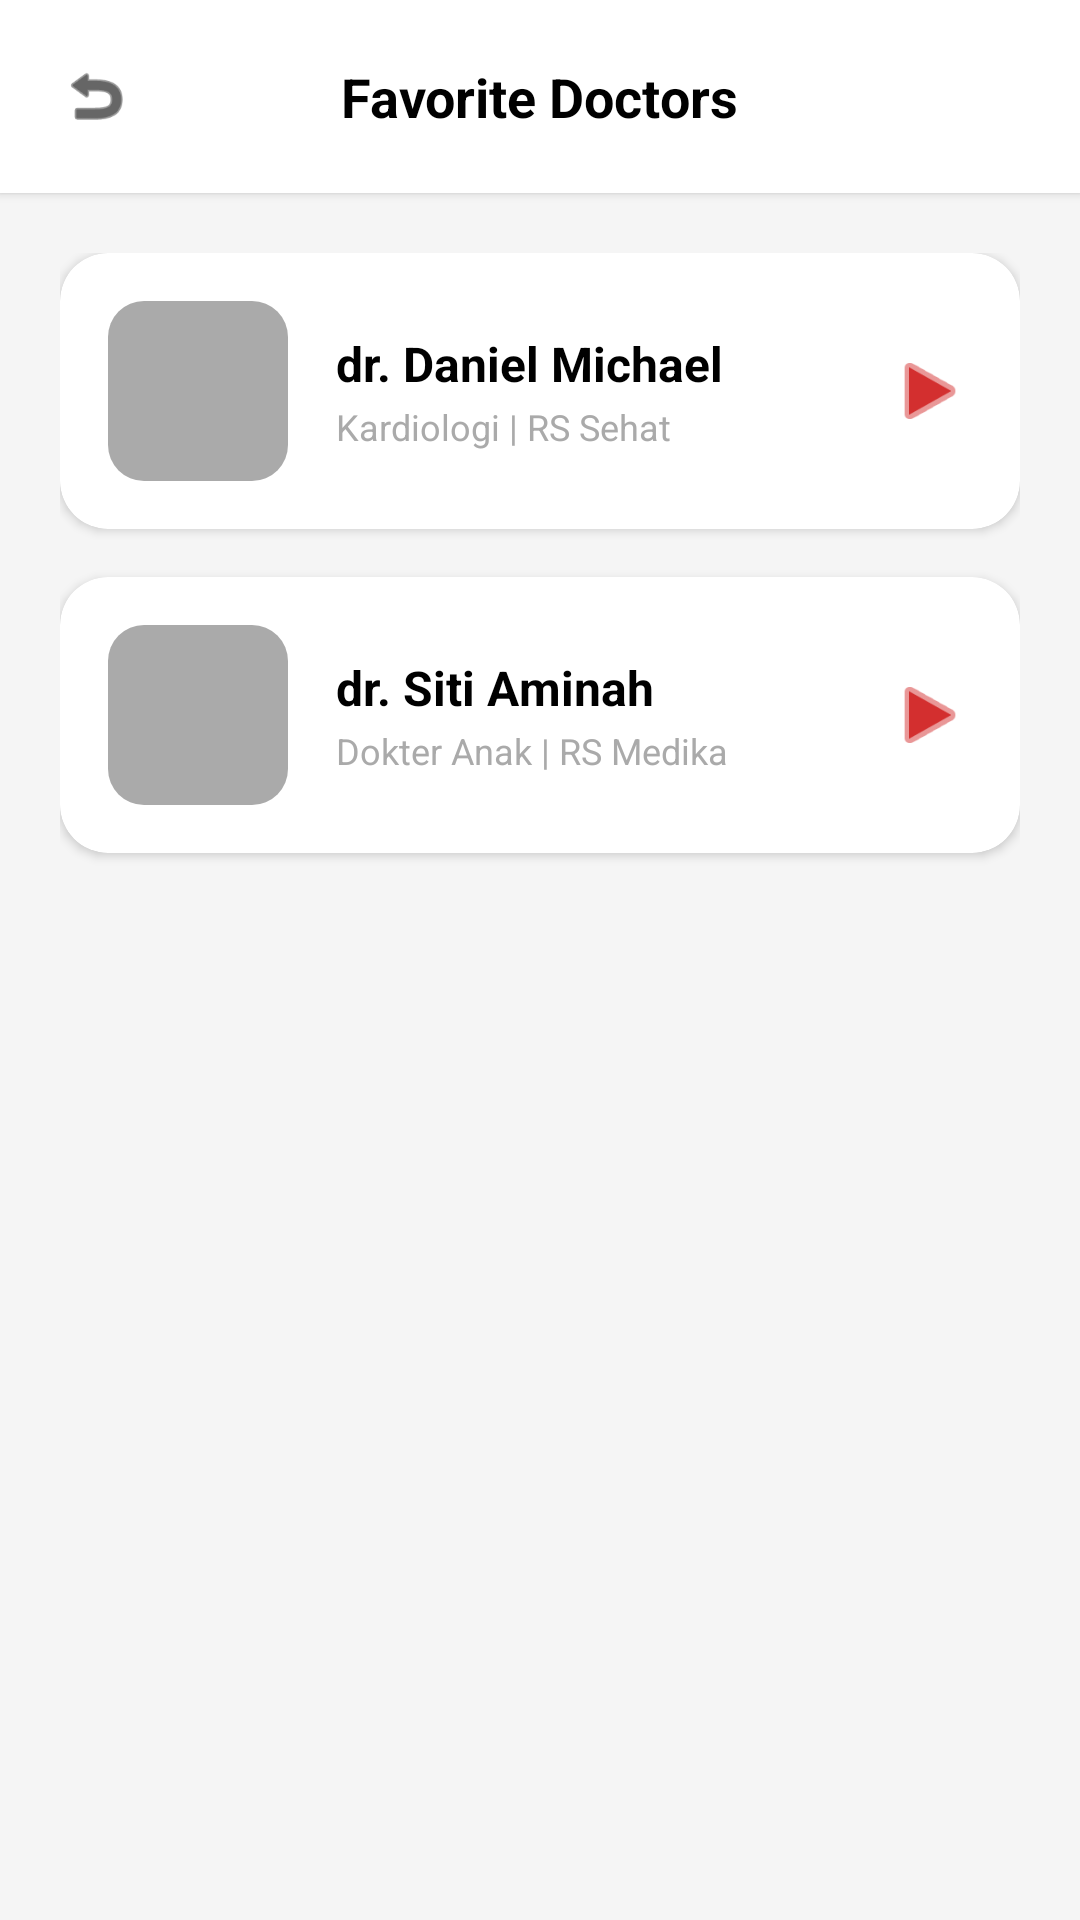

Icons on this 1080x1920 Android screen, each with its box as (x1, y1, x2, y2):
play: (904, 363, 956, 419), (904, 687, 956, 743)
revert: (71, 73, 123, 120)
